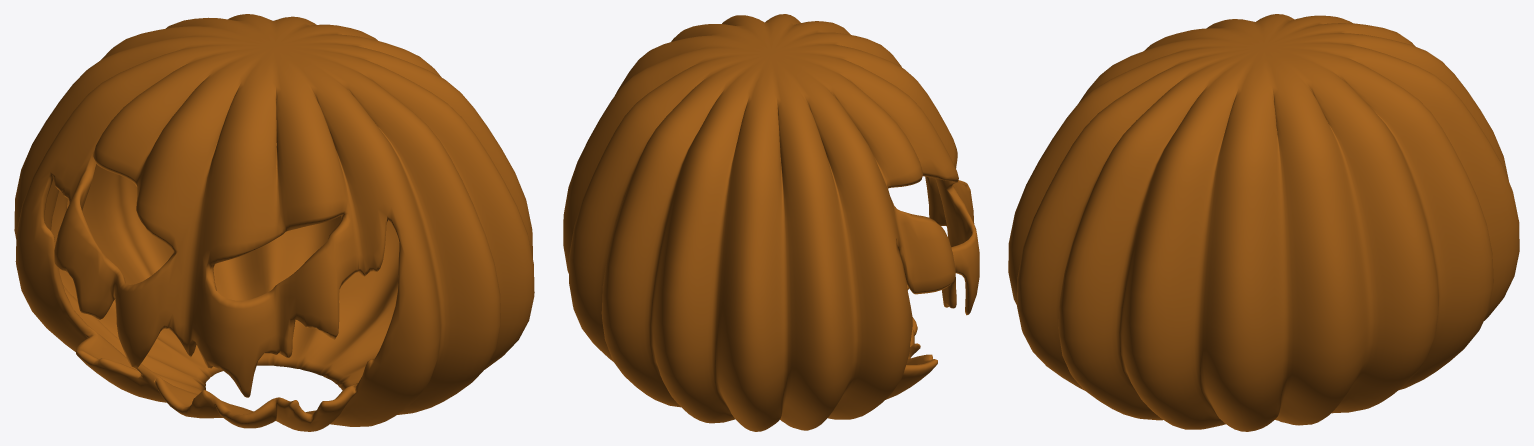
The model's file is Pumpkin.fbx.
3 renders of one model, left to right at view 1: azimuth 30°, elevation 25°; view 2: azimuth 150°, elevation 25°; view 3: azimuth 270°, elevation 25°, orthographic. The views are drawn at different scales.
Parts seen in each view (by area): view 1: Pumpkin; view 2: Pumpkin; view 3: Pumpkin.
Boxes of the visible parts, x1,y1,x2,y2 form: Pumpkin: [14, 14, 534, 431]; Pumpkin: [563, 14, 979, 431]; Pumpkin: [1008, 14, 1519, 431].
Size of the model in its own units: 228 by 185 by 249.
